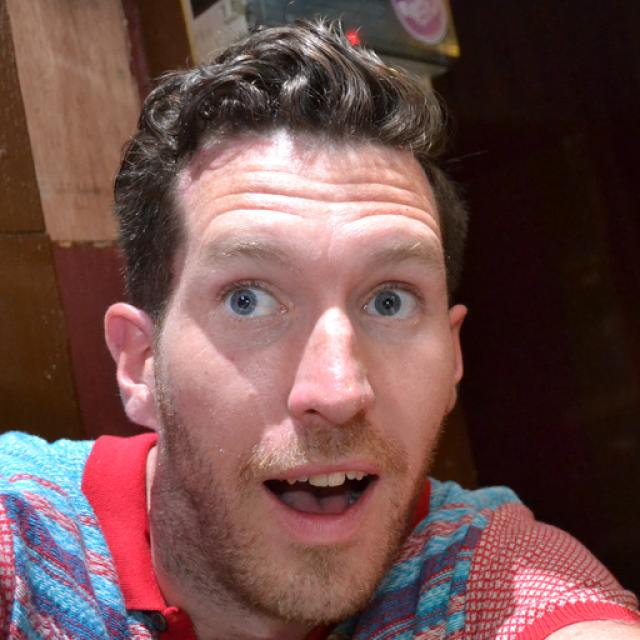Wrinkle: (203, 182, 437, 218), (236, 165, 434, 197), (200, 197, 307, 236), (348, 208, 441, 240)
